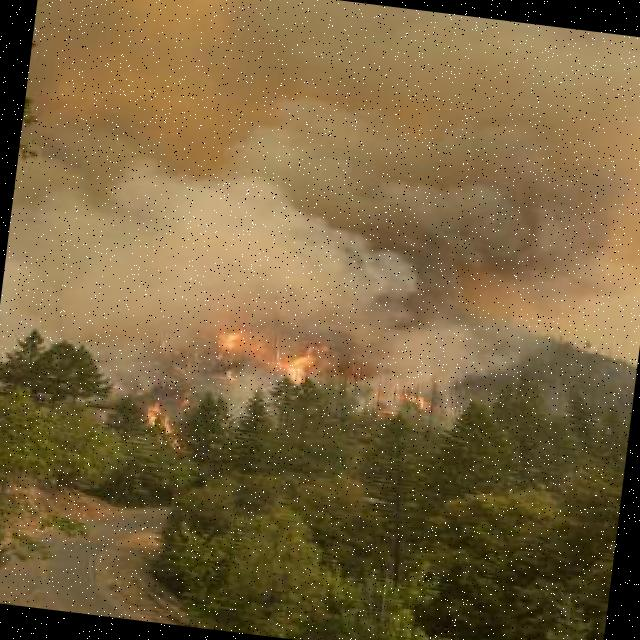fire: (214, 320, 366, 393)
